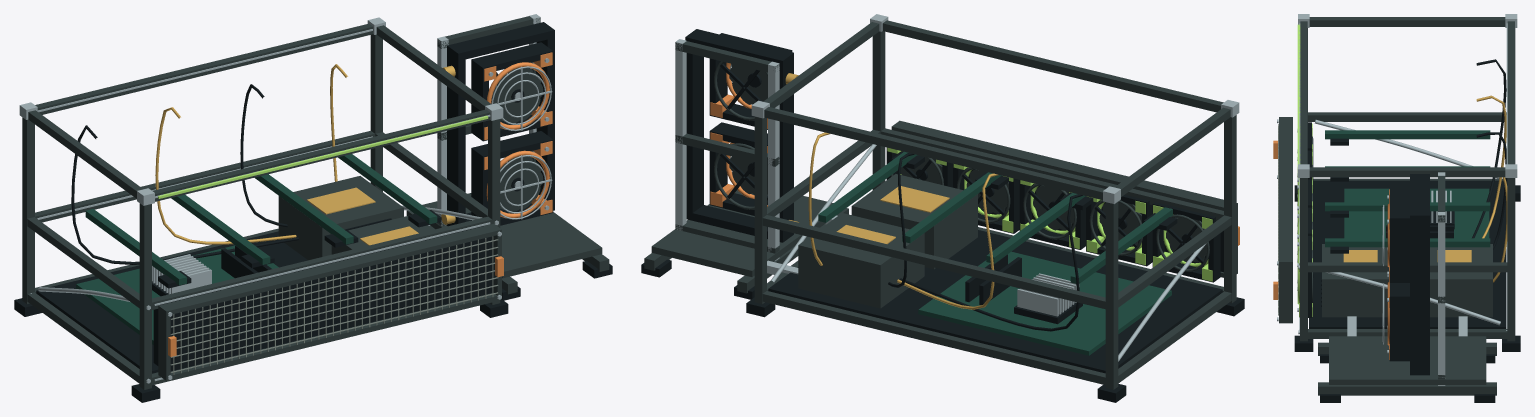
The model's file is rig-gameplay-carbon-air.glb.
3 views of the same model, side by side, from view 1: azimuth 30°, elevation 25°; view 2: azimuth 150°, elevation 25°; view 3: azimuth 270°, elevation 25° (orthographic). The views are drawn at different scales.
Parts seen in each view (by area): view 1: Anodized graphite (×5), Rubber and ABS (×4), filter-carbon, Brushed aluminium (×4), Filter fibres, Circuit board, Industrial orange (×2), Contacts, rig-gameplay-carbon-air, slot-cable-1, slot-cable-2, slot-cable-3; view 2: Anodized graphite (×8), Rubber and ABS (×8), Circuit board, Brushed aluminium (×2), Contacts, Lime accents (×2), slot-cable-1, slot-cable-2, Industrial orange; view 3: Anodized graphite (×3), Rubber and ABS (×6), Circuit board, Brushed aluminium (×2), Contacts, slot-cable-1, rig-gameplay-carbon-air, slot-cable-2, slot-cable-3, slot-cable-4.
Part boxes in pixels (x1=…): Anodized graphite (×5): x1=22, y1=16, x2=609, y2=389; Rubber and ABS (×4): x1=14, y1=22, x2=554, y2=402; filter-carbon: x1=170, y1=236, x2=493, y2=371; Brushed aluminium (×4): x1=19, y1=14, x2=552, y2=383; Filter fibres: x1=170, y1=236, x2=498, y2=374; Circuit board: x1=76, y1=154, x2=437, y2=344; Industrial orange (×2): x1=484, y1=52, x2=552, y2=218; Contacts: x1=307, y1=187, x2=418, y2=245; rig-gameplay-carbon-air: x1=158, y1=115, x2=488, y2=198; slot-cable-1: x1=71, y1=125, x2=298, y2=264; slot-cable-2: x1=155, y1=107, x2=296, y2=244; slot-cable-3: x1=240, y1=84, x2=287, y2=227; Anodized graphite (×8): x1=644, y1=20, x2=1237, y2=389; Rubber and ABS (×8): x1=685, y1=29, x2=1244, y2=402; Circuit board: x1=818, y1=151, x2=1172, y2=355; Brushed aluminium (×2): x1=675, y1=14, x2=1239, y2=361; Contacts: x1=836, y1=186, x2=949, y2=244; Lime accents (×2): x1=1086, y1=196, x2=1212, y2=281; slot-cable-1: x1=899, y1=194, x2=1082, y2=331; slot-cable-2: x1=897, y1=173, x2=998, y2=309; Industrial orange: x1=710, y1=132, x2=767, y2=207; Anodized graphite (×3): x1=1279, y1=17, x2=1515, y2=395; Rubber and ABS (×6): x1=1294, y1=138, x2=1520, y2=402; Circuit board: x1=1325, y1=130, x2=1490, y2=247; Brushed aluminium (×2): x1=1298, y1=14, x2=1517, y2=385; Contacts: x1=1343, y1=250, x2=1471, y2=262; slot-cable-1: x1=1472, y1=59, x2=1506, y2=238; rig-gameplay-carbon-air: x1=1297, y1=24, x2=1300, y2=168; slot-cable-2: x1=1476, y1=95, x2=1506, y2=238; slot-cable-3: x1=1476, y1=132, x2=1507, y2=249; slot-cable-4: x1=1493, y1=177, x2=1507, y2=282.
Size of the model in its own units: 8.02 by 3.32 by 4.01.
